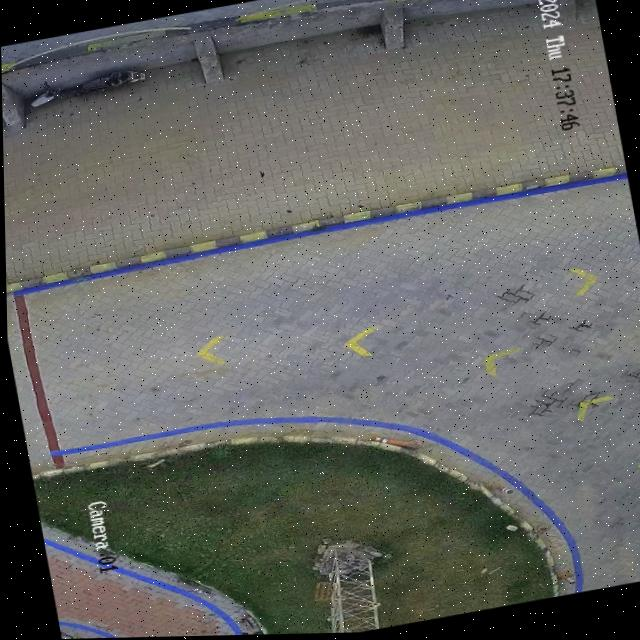No Car: (1, 0, 640, 639)
